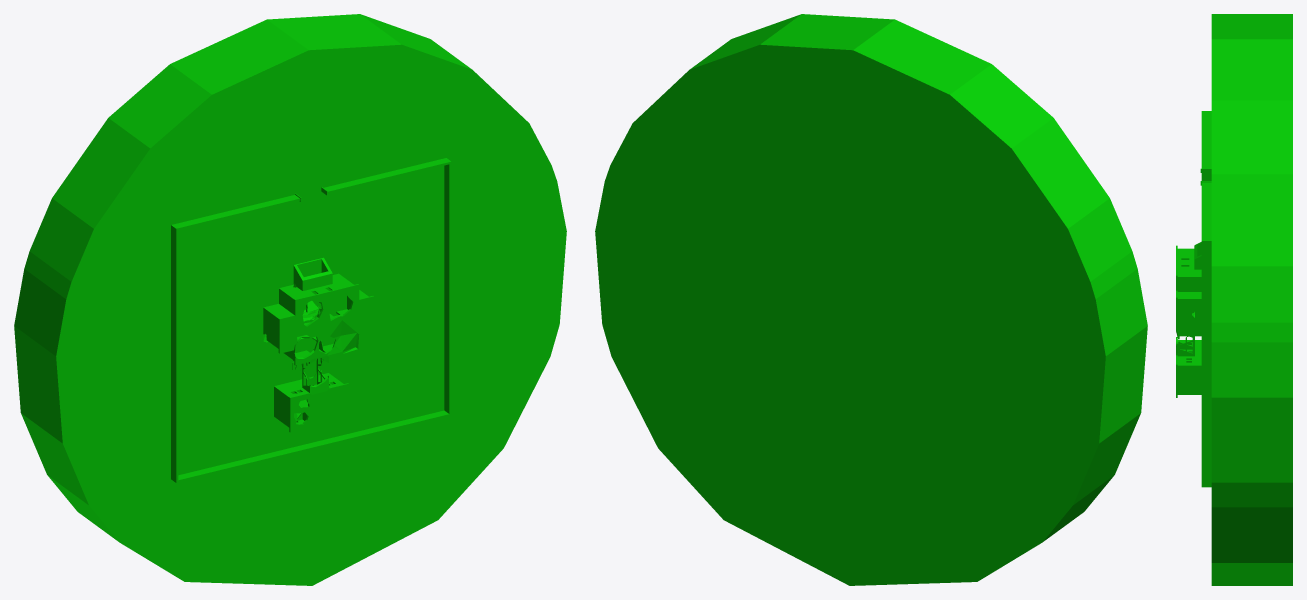
The model's file is lab_0003_col.obj.
3 views of the same model, side by side, from view 1: azimuth 30°, elevation 25°; view 2: azimuth 150°, elevation 25°; view 3: azimuth 270°, elevation 25° (orthographic). The views are drawn at different scales.
Parts seen in each view (by area): view 1: RENDER.010_Cube.047; view 2: RENDER.010_Cube.047; view 3: RENDER.010_Cube.047.
Part boxes in pixels (x1,y1,x2,y2): RENDER.010_Cube.047: (14, 14, 566, 585); RENDER.010_Cube.047: (595, 14, 1147, 585); RENDER.010_Cube.047: (1176, 14, 1292, 585).
Bounding box in the file's own units: 7.23 × 7.26 × 1.48.
